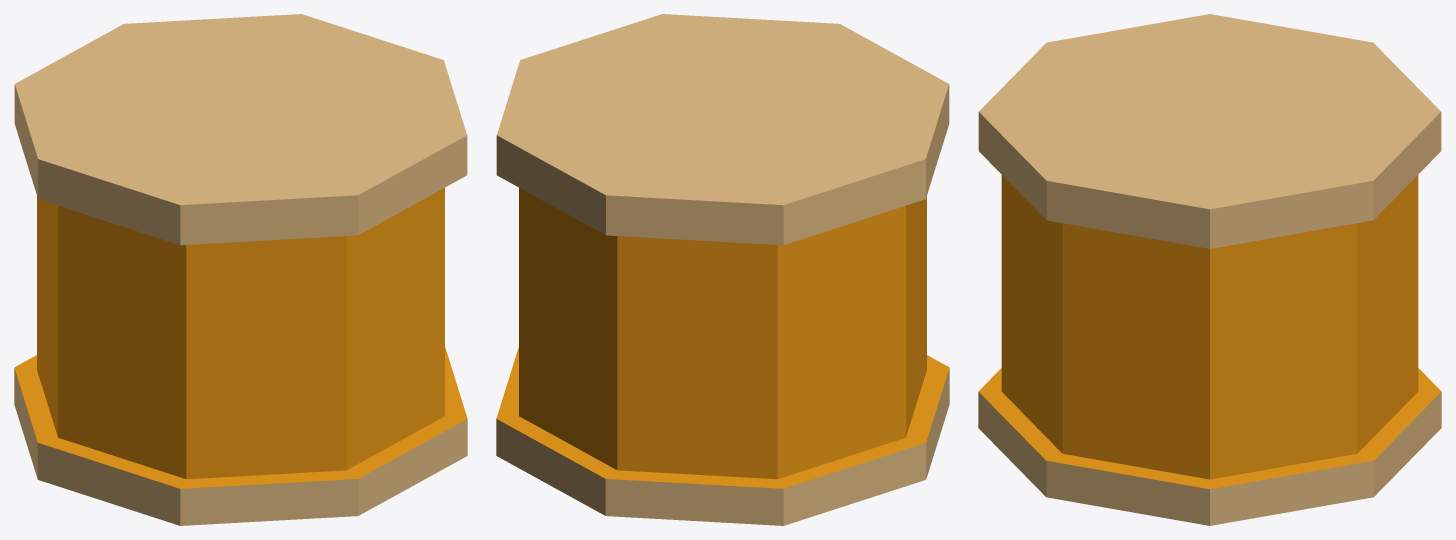
Rendered from string.glb.
3 views of the same model, side by side, from view 1: azimuth 30°, elevation 25°; view 2: azimuth 150°, elevation 25°; view 3: azimuth 270°, elevation 25° (orthographic).
Visible parts, largest first — view 1: string; view 2: string; view 3: string.
Boxes of the visible parts, left/top/right/bottom form: string: left=14, top=14, right=467, bottom=525; string: left=496, top=14, right=949, bottom=525; string: left=978, top=14, right=1441, bottom=525.
Bounding box in the file's own units: 0.2381 × 0.1795 × 0.2381.
